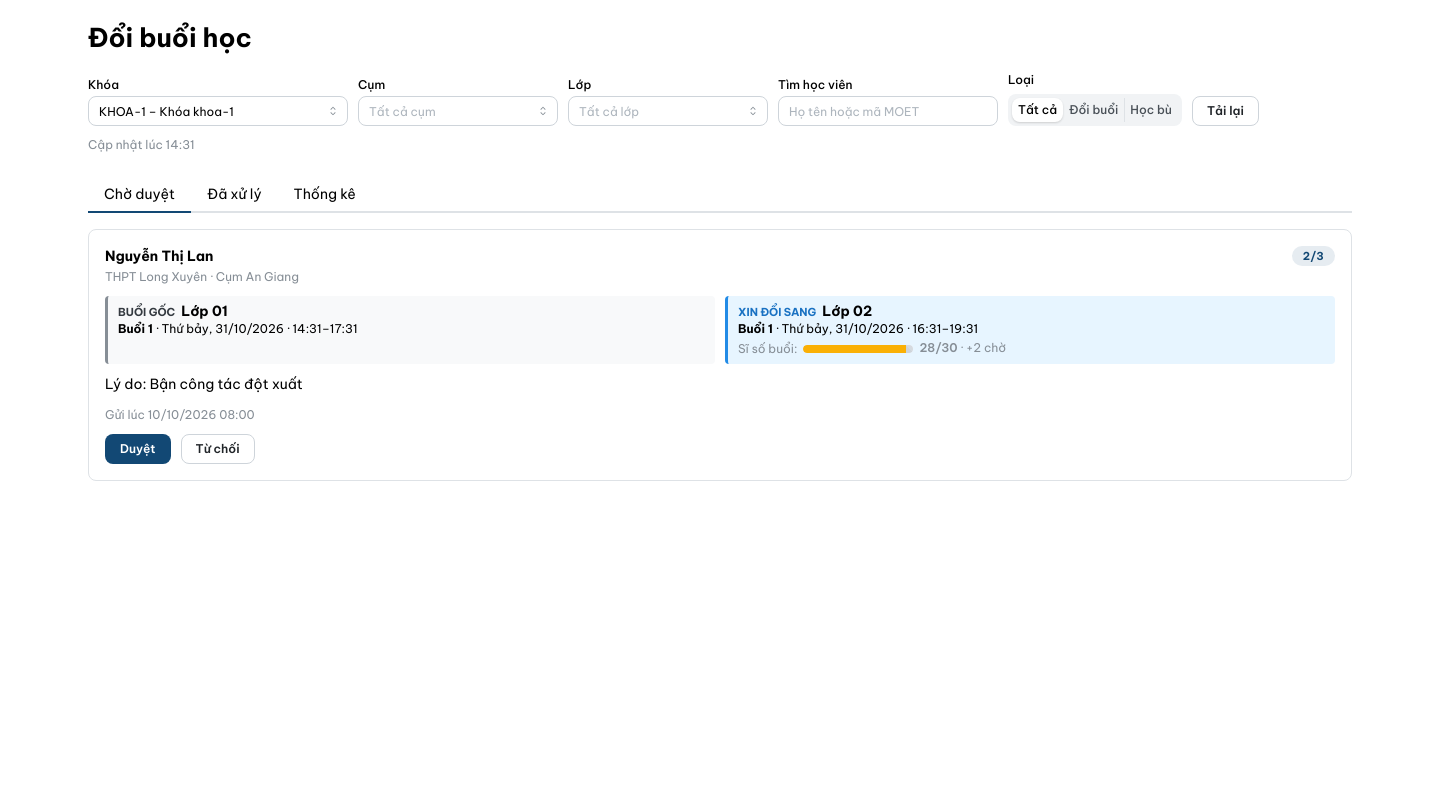
Màn duyệt đổi buổi › quản trị: lựa chọn không duyệt được vẫn enabled, có cảnh báo Vượt
Click the button "Duyệt" at {"x": 138, "y": 449}, box [105,434,171,464]
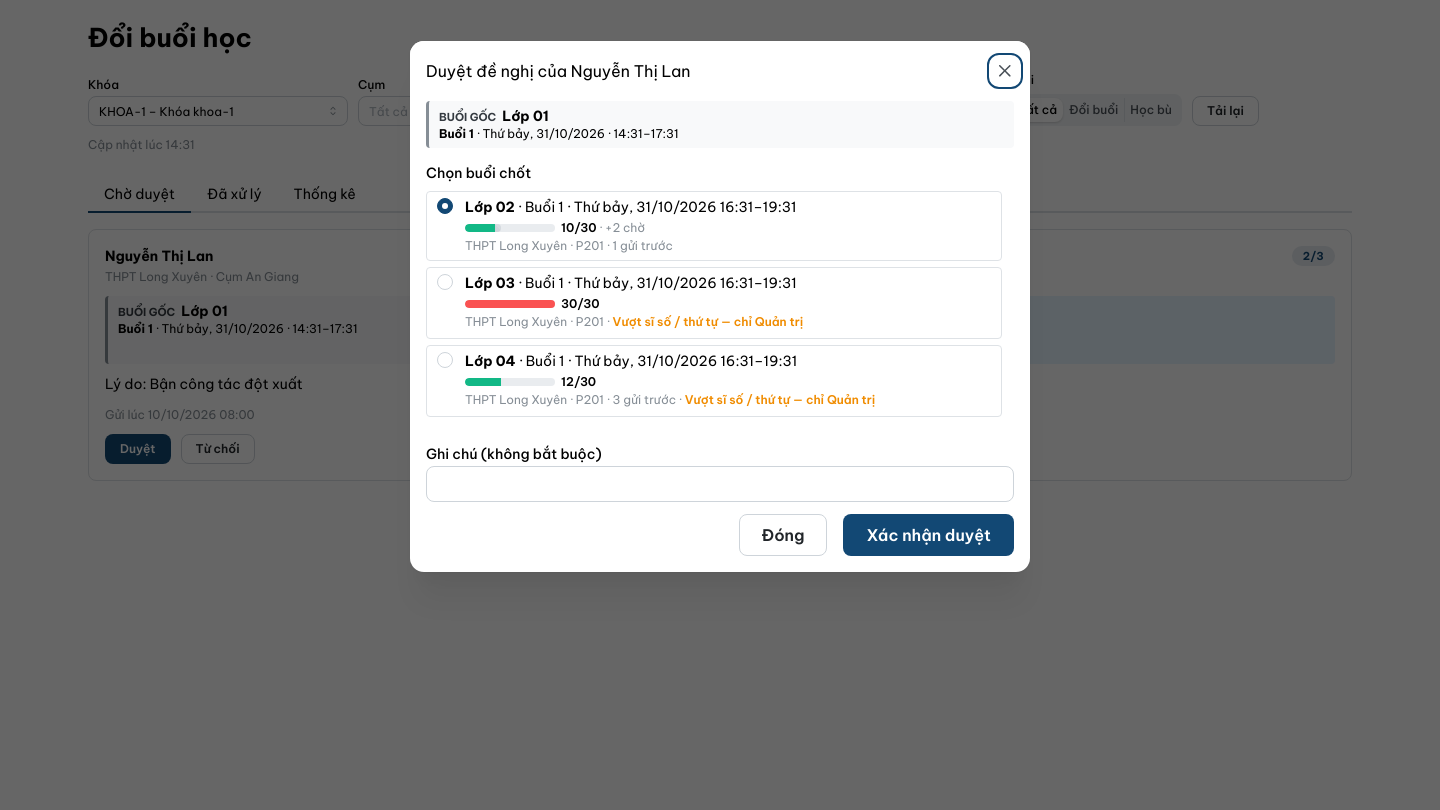
Expected: the text "Chọn buổi chốt" is shown, [426,163,531,184]
Expected: the radio button labelled "Lớp 03" is enabled, [437,273,453,289]
Expected: the text "Vượt sĩ số / thứ tự — chỉ Quản trị" is shown 2 times, [613,314,803,329]; [685,392,875,407]
